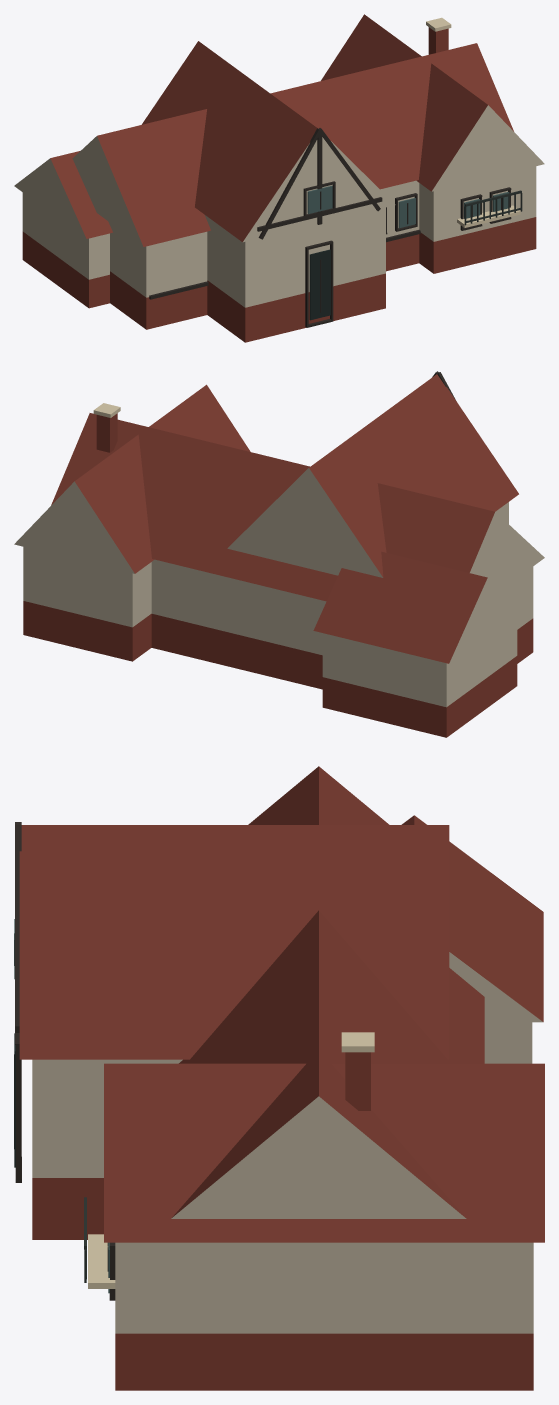
Rendered from house-315-master.glb.
3 renders of one model, top to bottom at view 1: azimuth 30°, elevation 25°; view 2: azimuth 150°, elevation 25°; view 3: azimuth 270°, elevation 25°, orthographic. The views are drawn at different scales.
Visible parts, largest first — view 1: house-315-master; view 2: house-315-master; view 3: house-315-master.
Boxes of the visible parts, left/top/right/bottom form: house-315-master: left=14, top=14, right=544, bottom=342; house-315-master: left=14, top=371, right=544, bottom=737; house-315-master: left=14, top=766, right=544, bottom=1390.
Bounding box in the file's own units: 14.9 × 6.98 × 9.45.
